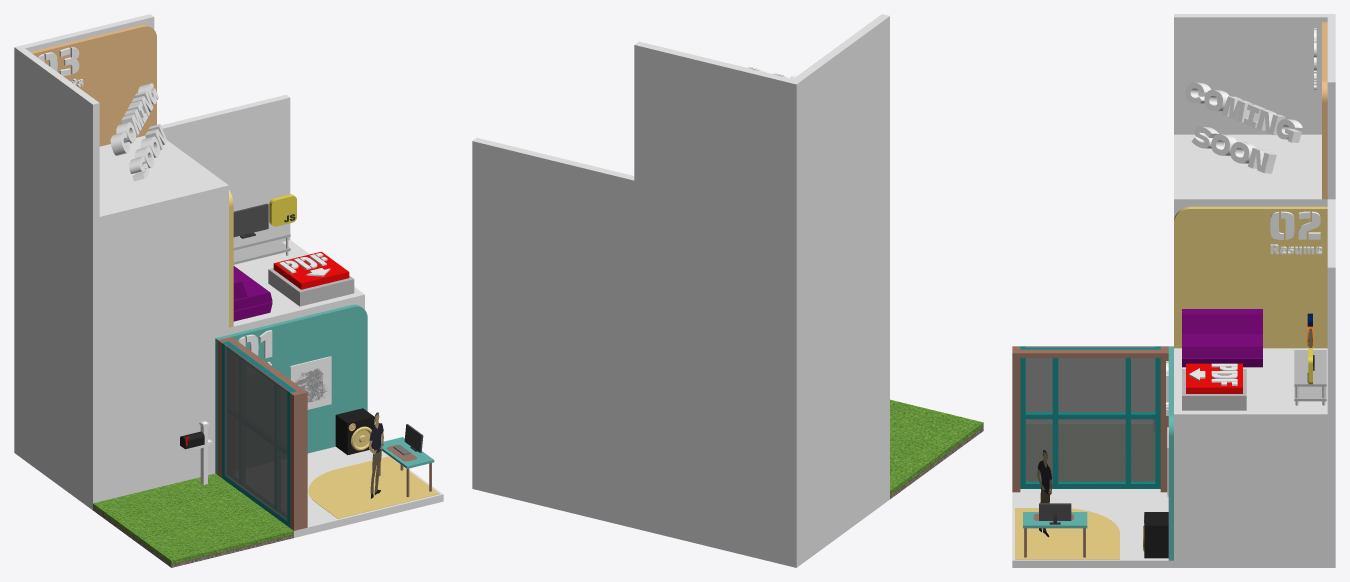
Rendered from maxtower.dae.
The picture shows the model from 3 angles, left to right: view 1: azimuth 30°, elevation 25°; view 2: azimuth 150°, elevation 25°; view 3: azimuth 270°, elevation 25°; orthographic projection. The views are drawn at different scales.
Parts seen in each view (by area): view 1: group_51, group_38, group_42, group_55, group_43, group_56, group_53, group_54, image_0, group_5, group_6, group_35 (+10 smaller); view 2: group_51, group_38; view 3: group_51, group_41, group_55, group_54, group_56, group_53, COMING_SOON (×6), group_11, group_10, group_5, group_42, group_6 (+8 smaller).
Part boxes in pixels (x1=…): group_51: x1=14, y1=14, x2=443, y2=537; group_38: x1=93, y1=473, x2=293, y2=564; group_42: x1=215, y1=304, x2=367, y2=474; group_55: x1=224, y1=344, x2=289, y2=520; group_43: x1=30, y1=24, x2=156, y2=146; group_56: x1=308, y1=456, x2=439, y2=518; group_53: x1=218, y1=337, x2=307, y2=530; group_54: x1=222, y1=341, x2=296, y2=527; image_0: x1=290, y1=357, x2=331, y2=409; group_5: x1=268, y1=268, x2=354, y2=306; group_6: x1=273, y1=251, x2=349, y2=289; group_35: x1=335, y1=408, x2=374, y2=455; group_51: x1=472, y1=14, x2=889, y2=567; group_38: x1=890, y1=399, x2=983, y2=494; group_51: x1=1012, y1=14, x2=1335, y2=567; group_41: x1=1174, y1=206, x2=1327, y2=348; group_55: x1=1025, y1=346, x2=1155, y2=481; group_54: x1=1020, y1=346, x2=1160, y2=488; group_56: x1=1015, y1=508, x2=1119, y2=559; group_53: x1=1012, y1=346, x2=1168, y2=492; COMING_SOON (×6): x1=1185, y1=82, x2=1302, y2=173; group_11: x1=1182, y1=309, x2=1262, y2=333; group_10: x1=1182, y1=334, x2=1262, y2=357; group_5: x1=1182, y1=369, x2=1246, y2=410; group_42: x1=1168, y1=346, x2=1173, y2=560; group_6: x1=1186, y1=363, x2=1242, y2=393.
Size of the model in its own units: 240 by 240 by 342.
30 materials, 4 textured.
